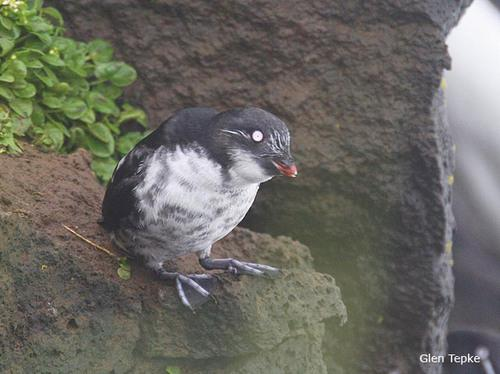006.Least_Auklet: (97, 103, 297, 314)
